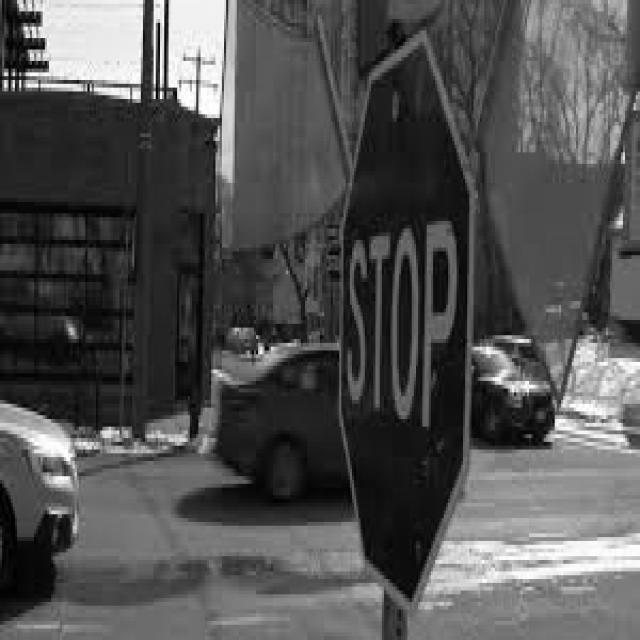stop sign: (340, 34, 474, 616)
